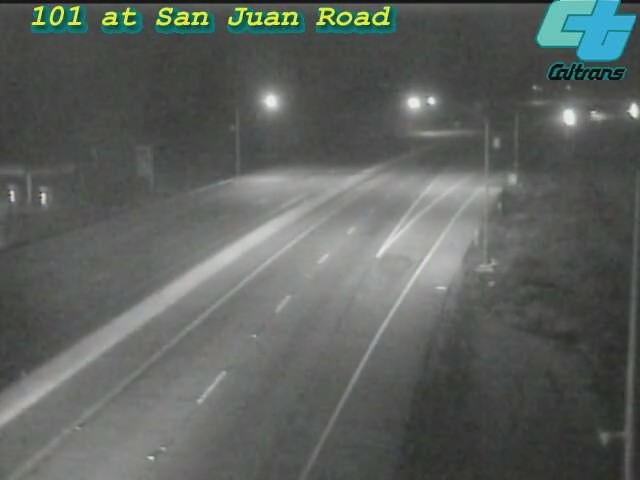vehicle: (574, 93, 624, 143), (544, 92, 594, 142), (608, 86, 640, 136)
